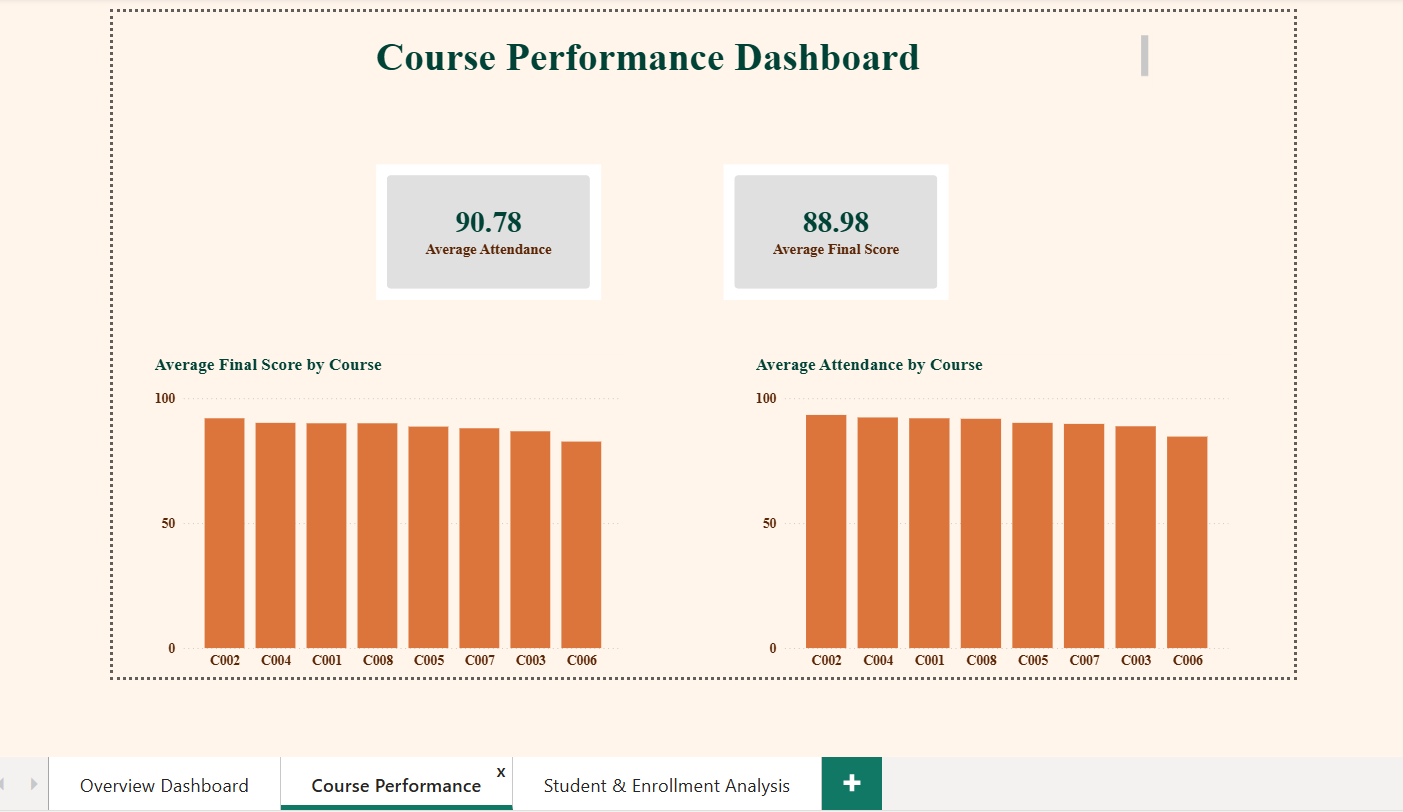

This screenshot's page, from the dashboard's own definition file:
{"tool":"powerbi","page":{"name":"Course Performance","canvas":[1280,720],"ordinal":1},"visuals":[{"type":"clusteredColumnChart","title":"Average Final Score by Course","fields":{"Y":["Performance.Average Final Score"],"Category":["Performance.Course_ID"]},"box":[40,371.7,517.1,348.6],"z":0},{"type":"clusteredColumnChart","title":"Average Attendance by Course","fields":{"Category":["Performance.Course_ID"],"Y":["Performance.Average Attendance"]},"box":[691.7,371.7,522.9,348.6],"z":1},{"type":"cardVisual","fields":{"Data":["Performance.Average Final Score"]},"box":[656.7,160,254.3,157.1],"z":2},{"type":"cardVisual","fields":{"Data":["Performance.Average Attendance"]},"box":[280,160,254.3,157.1],"z":3},{"type":"textbox","box":[40,20,1087.1,64.3],"z":4}]}

Visuals, with their boxes on the page's 1280x720 design canvas (x1, y1, x2, y2). These are canvas units, not pixel positions in the 1403x812 screenshot, which may show the page scaled, cropped or inside an application window:
"Average Final Score by Course" clusteredColumnChart: locate(40, 372, 557, 720)
"Average Attendance by Course" clusteredColumnChart: locate(692, 372, 1215, 720)
cardVisual - Performance.Average Final Score: locate(657, 160, 911, 317)
cardVisual - Performance.Average Attendance: locate(280, 160, 534, 317)
textbox: locate(40, 20, 1127, 84)
